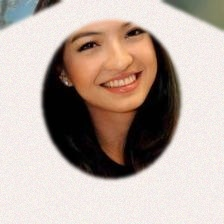Mukena: (0, 25, 223, 224)
